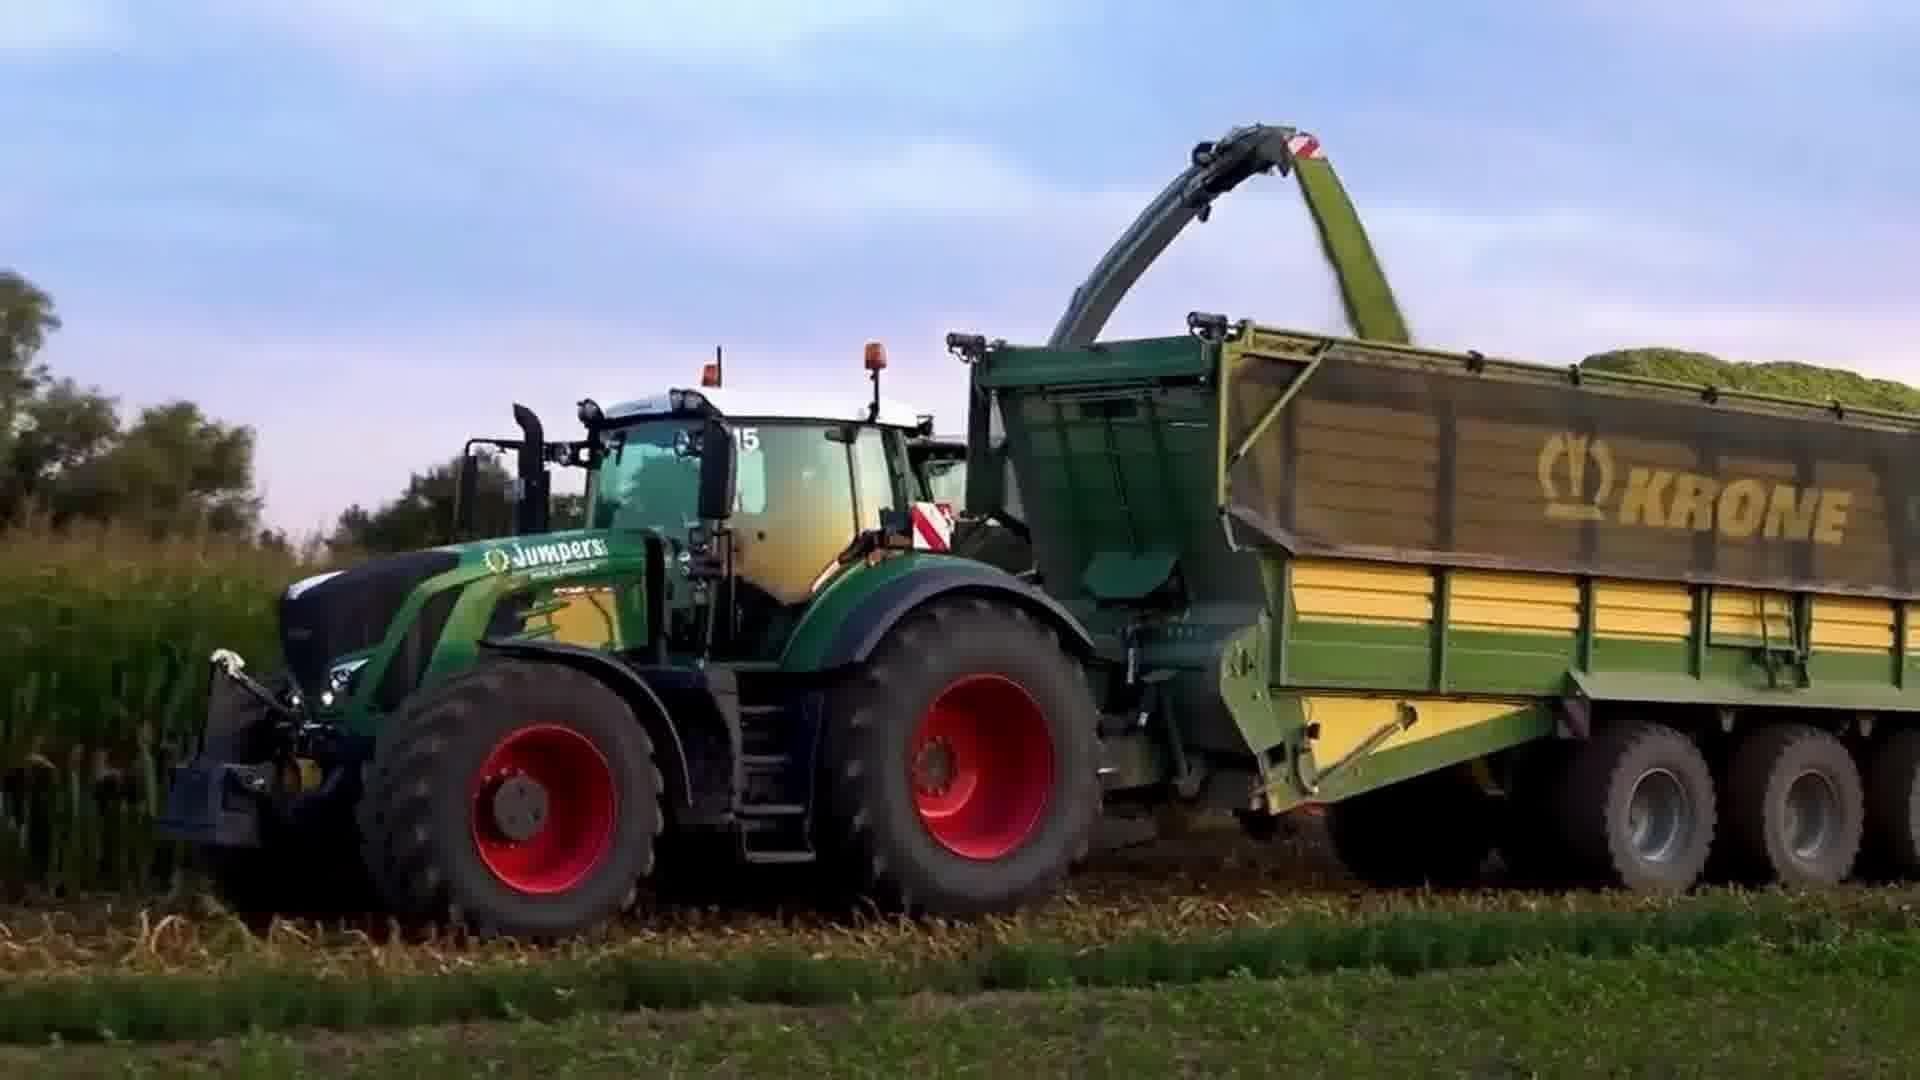tractor: (121, 336, 1121, 940)
trailer: (938, 322, 1920, 922)
